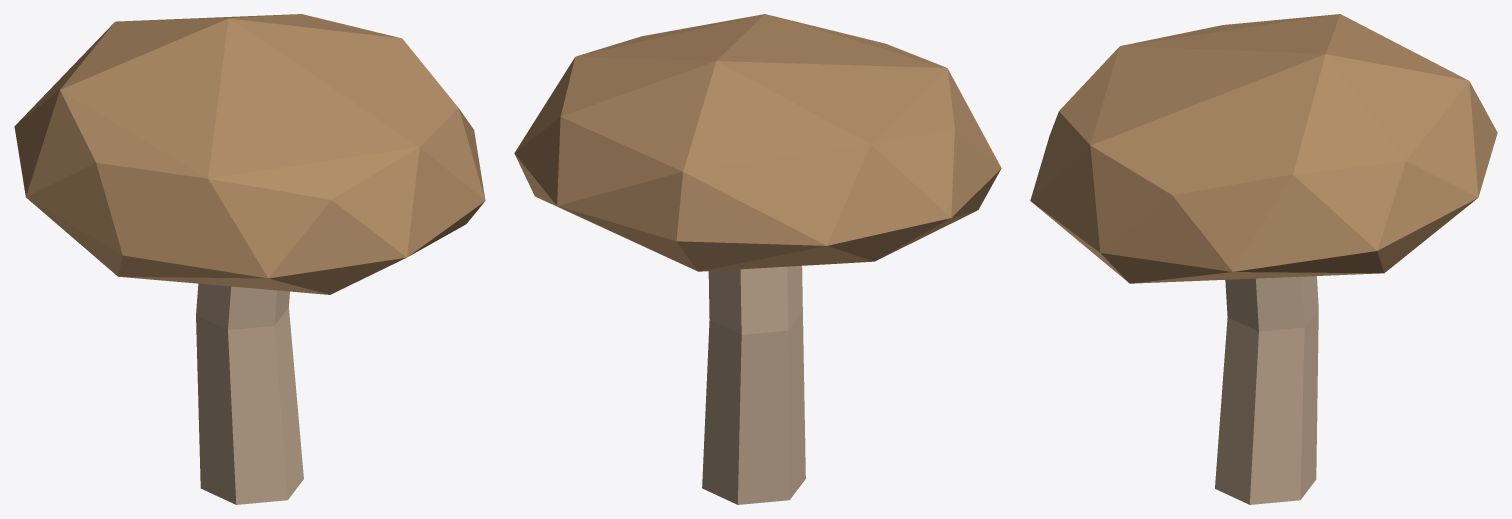
Rendered from Mushroom_01.fbx.
3 renders of one model, left to right at view 1: azimuth 30°, elevation 25°; view 2: azimuth 150°, elevation 25°; view 3: azimuth 270°, elevation 25°, orthographic. The views are drawn at different scales.
Visible parts, largest first — view 1: Mushroom_01; view 2: Mushroom_01; view 3: Mushroom_01.
Part boxes in pixels (x1,y1,x2,y2): Mushroom_01: (14,14,485,504); Mushroom_01: (514,14,1001,504); Mushroom_01: (1030,14,1497,504).
Size of the model in its own units: 14.94 by 15.12 by 14.78.
